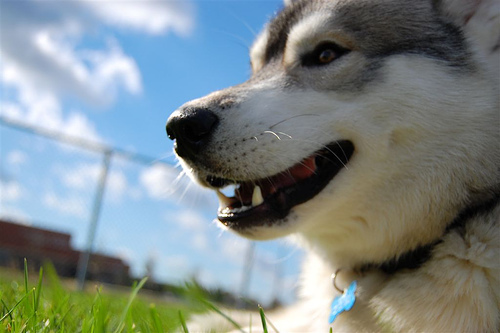dog: (164, 1, 499, 332)
